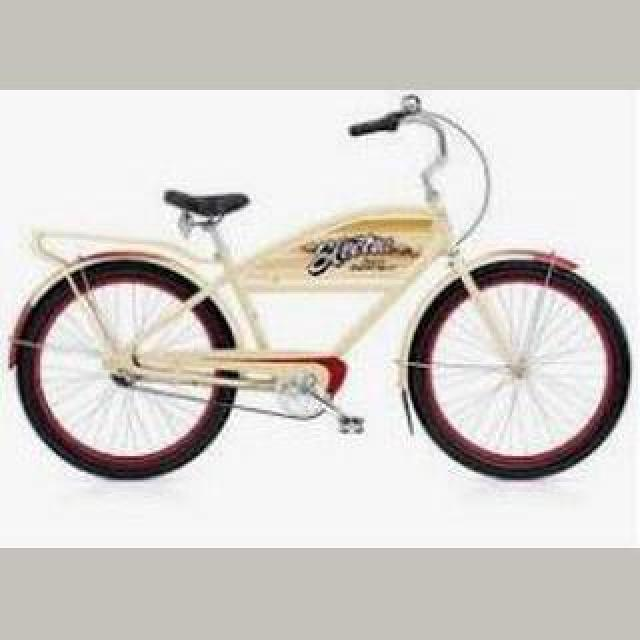Person: (8, 92, 632, 484)
